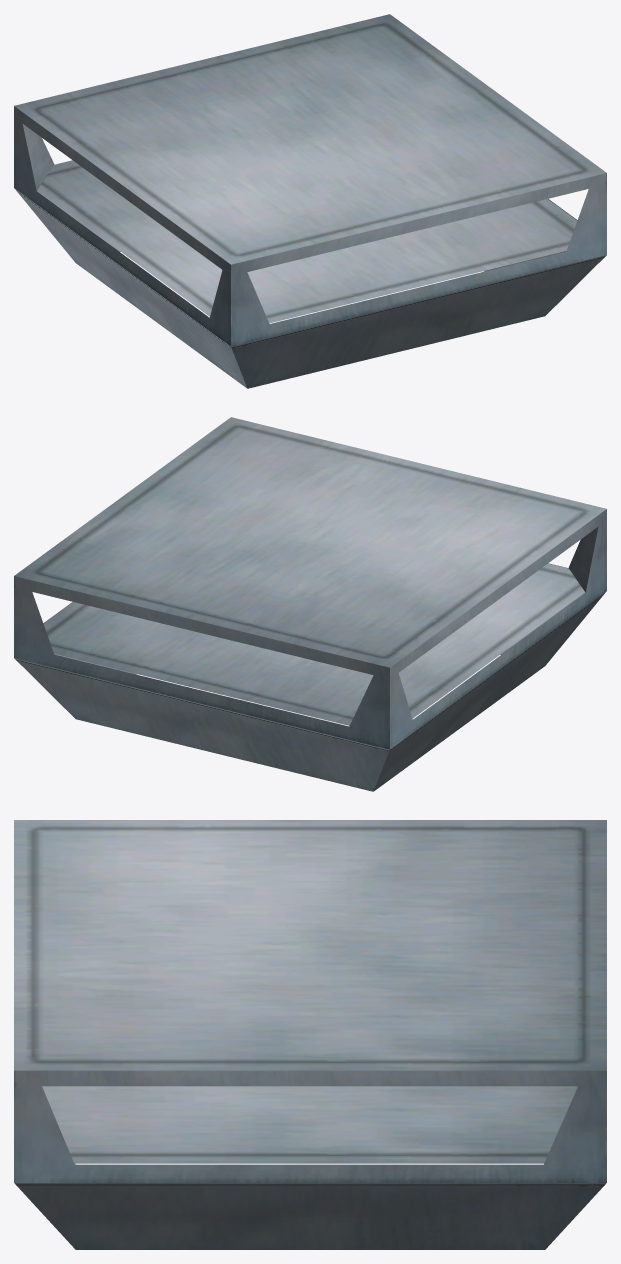
The model's file is frn_all_tech_coffee_table_s01_l1.fbx.
The picture shows the model from 3 angles, top to bottom: view 1: azimuth 30°, elevation 25°; view 2: azimuth 150°, elevation 25°; view 3: azimuth 270°, elevation 25°; orthographic projection. The views are drawn at different scales.
Parts seen in each view (by area): view 1: mesh_node; view 2: mesh_node; view 3: mesh_node.
Part boxes in pixels (left/top/right/bottom): mesh_node: left=14, top=14, right=606, bottom=388; mesh_node: left=14, top=417, right=606, bottom=791; mesh_node: left=14, top=820, right=606, bottom=1249.
Bounding box in the file's own units: 1.04 × 0.3977 × 1.04.
1 material, 1 textured.
